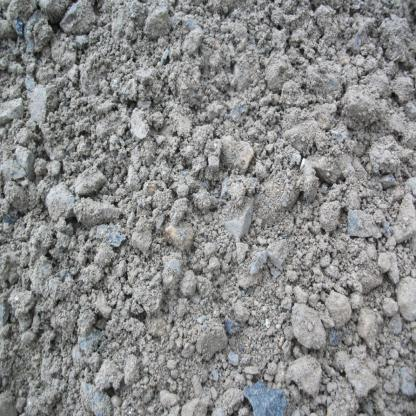Igneous_Diorite: (239, 380, 294, 416), (346, 209, 390, 236), (348, 28, 364, 54), (224, 316, 240, 340), (227, 102, 246, 122), (107, 226, 125, 247), (74, 32, 91, 50), (12, 18, 23, 41)
